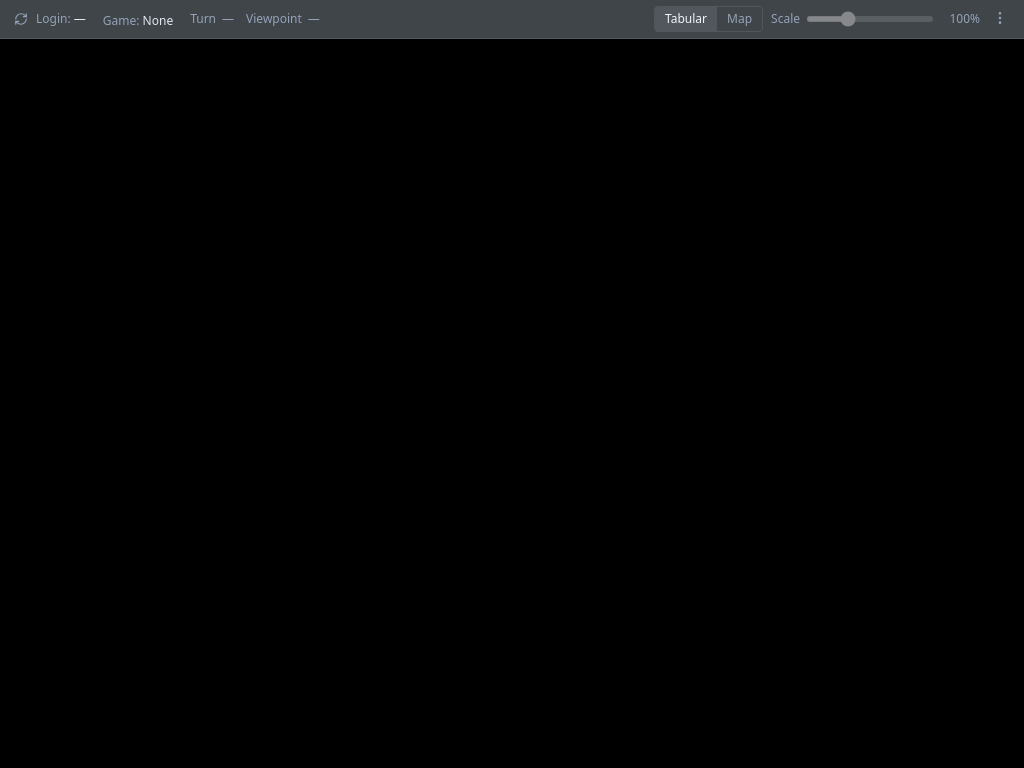
Test: Header › opens settings from the header menu
This screenshot has width=1024, height=768.
Step 1. Click the button named "open menu" → (1000, 18), box top-left (988, 6), bottom-right (1012, 30)
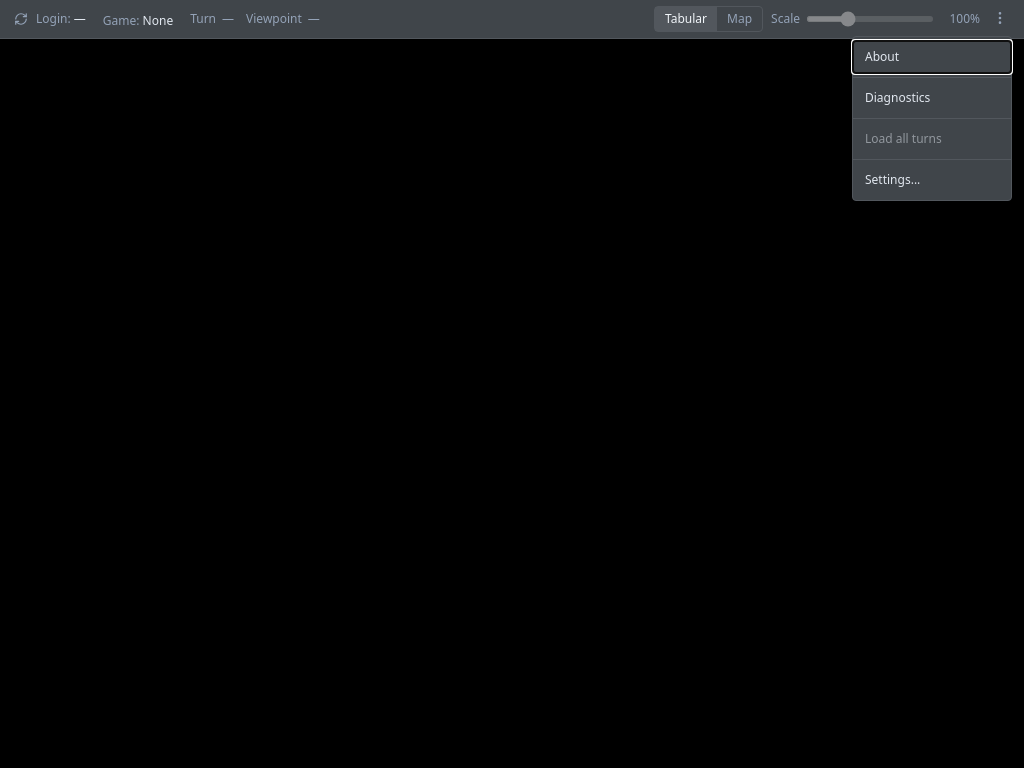
expect the dialog named "header menu" is shown: met, box top-left (852, 36), bottom-right (1012, 201)
Step 2. Click the button "Settings..." → (932, 180), box top-left (853, 164), bottom-right (1011, 196)
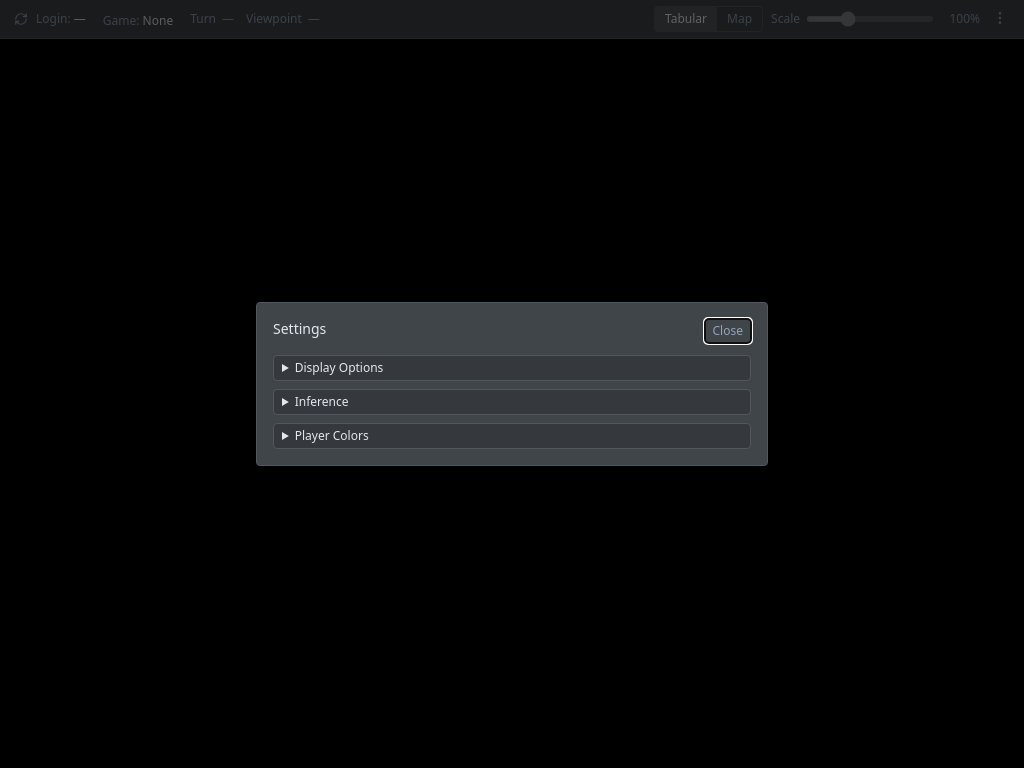
expect the dialog "Settings Close Display Options Inference Player Colors" is shown: met, box top-left (256, 302), bottom-right (768, 466)
